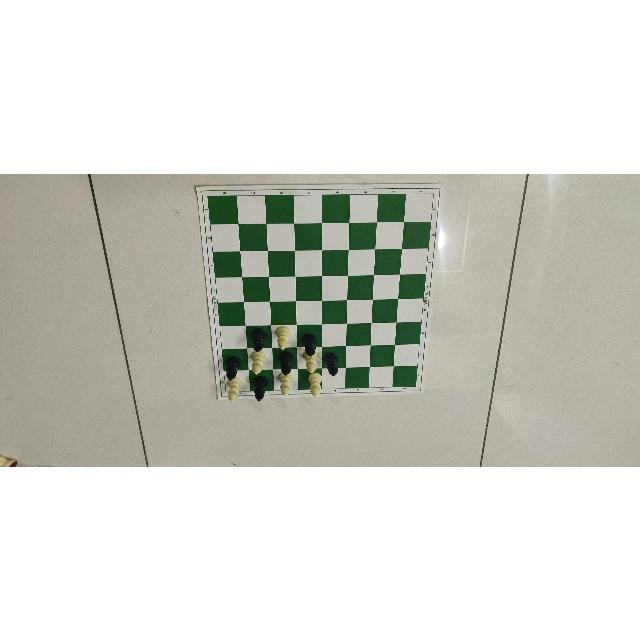black-bishop: (225, 355, 241, 380), (324, 350, 340, 375), (253, 376, 268, 402), (251, 327, 267, 351), (279, 350, 294, 375), (302, 332, 317, 356)
white-bishop: (226, 377, 243, 402), (275, 325, 291, 349), (250, 351, 266, 374), (279, 372, 294, 396), (302, 350, 318, 372), (308, 373, 321, 397)
